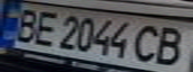0: (72, 14, 96, 54)
2: (51, 11, 81, 52)
4: (109, 18, 139, 60), (90, 16, 115, 56)
B: (148, 22, 193, 68), (6, 6, 45, 43)
C: (127, 21, 169, 64)
E: (27, 8, 63, 47)
